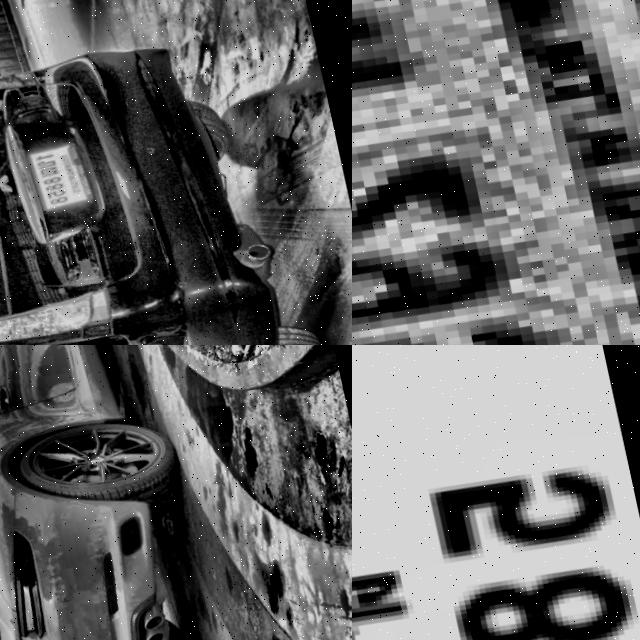license-plate: (352, 0, 640, 345), (352, 345, 640, 640), (21, 128, 94, 212)
